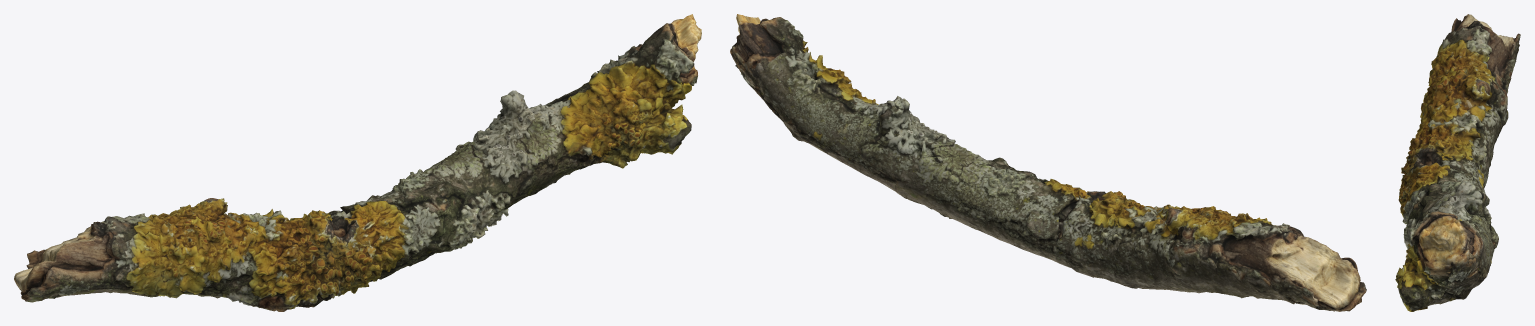
The model's file is wood_stick_03.FBX.
The picture shows the model from 3 angles, left to right: view 1: azimuth 30°, elevation 25°; view 2: azimuth 150°, elevation 25°; view 3: azimuth 270°, elevation 25°; orthographic projection. The views are drawn at different scales.
Visible parts, largest first — view 1: wood_stick_03; view 2: wood_stick_03; view 3: wood_stick_03.
Part boxes in pixels (box(x1,y1,x2,y2)): wood_stick_03: box(14, 14, 701, 311); wood_stick_03: box(730, 14, 1366, 311); wood_stick_03: box(1395, 14, 1520, 311).
Size of the model in its own units: 21.93 by 3.74 by 5.83.
Materials: 1 (1 with a texture image).
